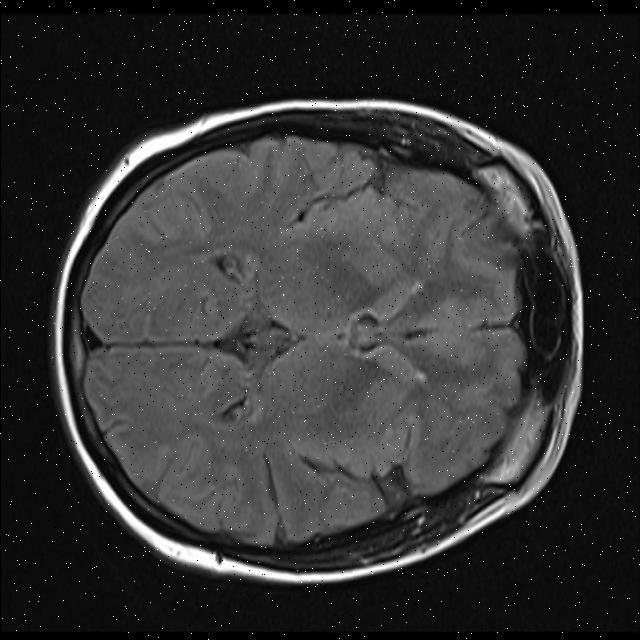No_Tumor: (53, 101, 582, 583)
